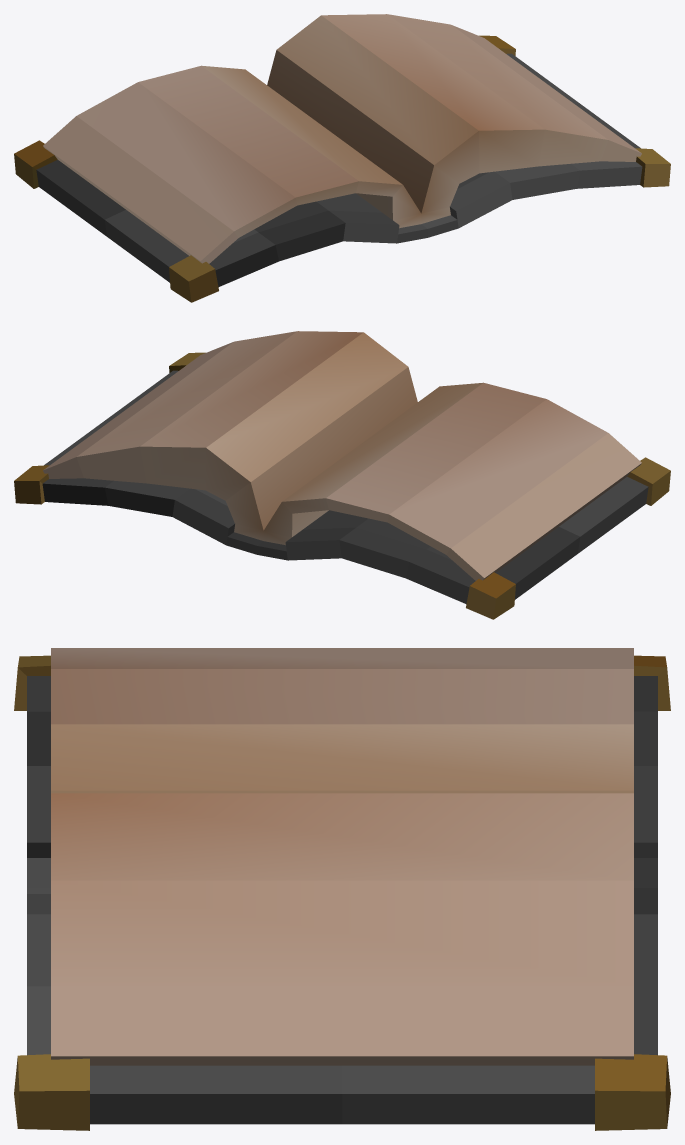
The model's file is Prop_BookE.fbx.
3 renders of one model, top to bottom at view 1: azimuth 30°, elevation 25°; view 2: azimuth 150°, elevation 25°; view 3: azimuth 270°, elevation 25°, orthographic. The views are drawn at different scales.
Visible parts, largest first — view 1: Prop_BookE; view 2: Prop_BookE; view 3: Prop_BookE.
Part boxes in pixels (x1,y1,x2,y2): Prop_BookE: (14,14,670,302); Prop_BookE: (14,331,670,619); Prop_BookE: (14,648,670,1130).
Size of the model in its own units: 55.62 by 10.28 by 35.4.
